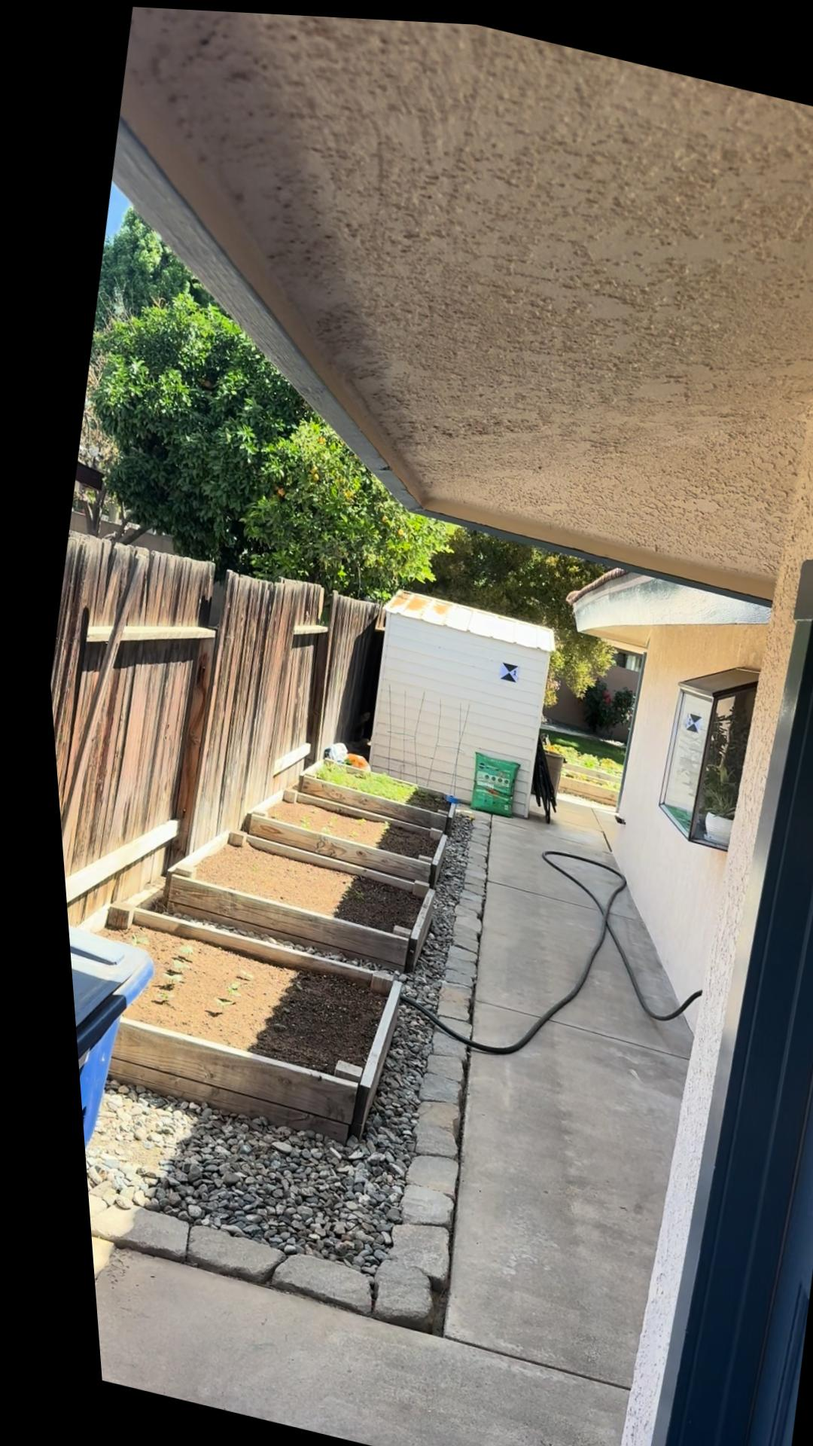target1: (497, 660, 524, 686)
